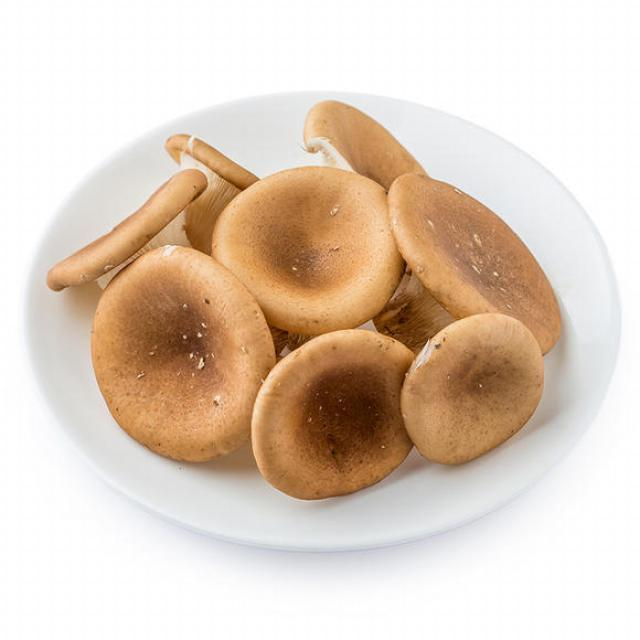Clitocybe maxima: (95, 243, 274, 462), (391, 170, 568, 351), (213, 165, 400, 329), (254, 326, 418, 500), (406, 313, 541, 464), (48, 170, 212, 293)
